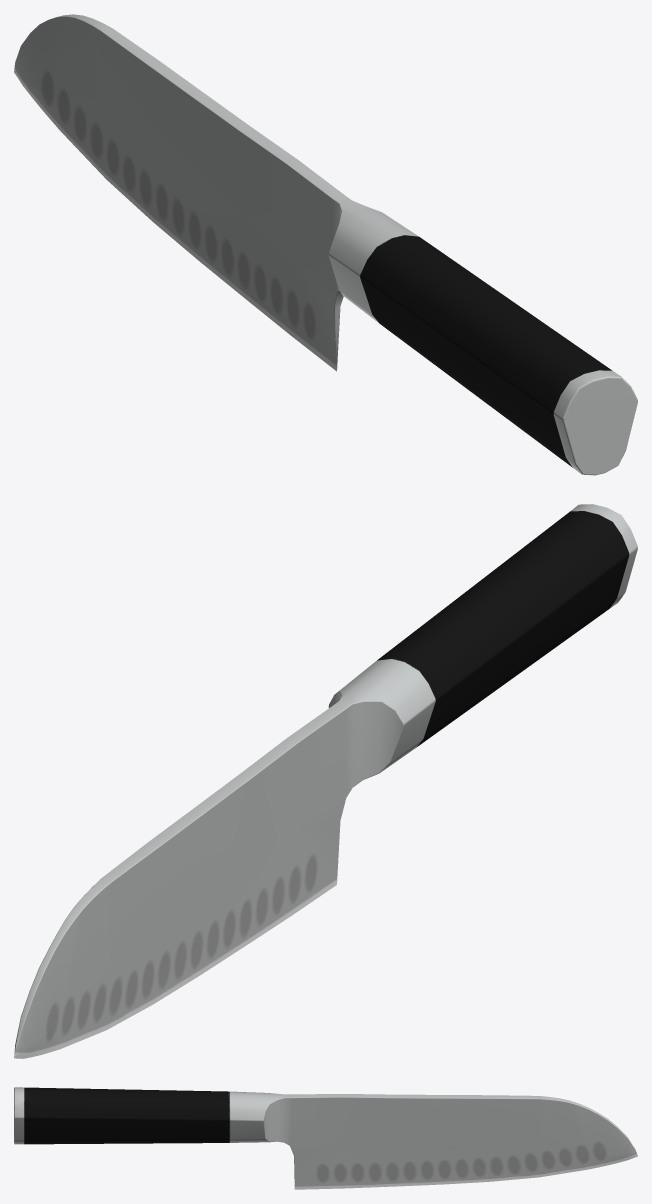
Rendered from Knife_01 1.FBX.
3 views of the same model, one above another, from view 1: azimuth 30°, elevation 25°; view 2: azimuth 150°, elevation 25°; view 3: azimuth 270°, elevation 25° (orthographic). The views are drawn at different scales.
Visible parts, largest first — view 1: Knife_01; view 2: Knife_01; view 3: Knife_01.
Boxes of the visible parts, bbox=[...] form: Knife_01: bbox=[14, 14, 637, 475]; Knife_01: bbox=[14, 504, 637, 1058]; Knife_01: bbox=[14, 1087, 637, 1189].
Bounding box in the file's own units: 2.2 × 5.17 × 29.49.
1 material, 1 textured.
